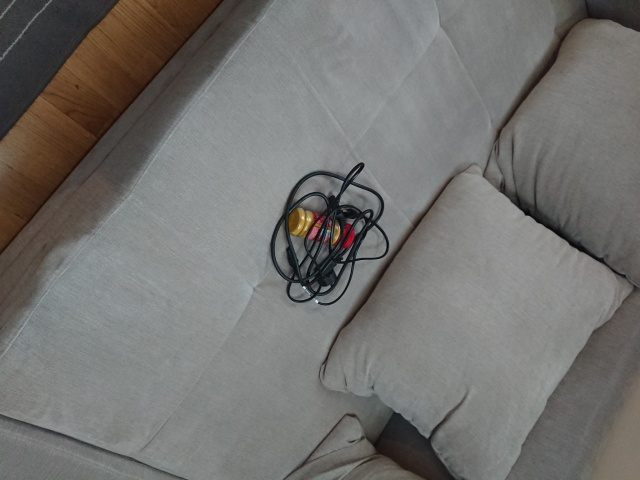Kotanyi Curry Spices Mix 70g: (287, 206, 357, 250)
